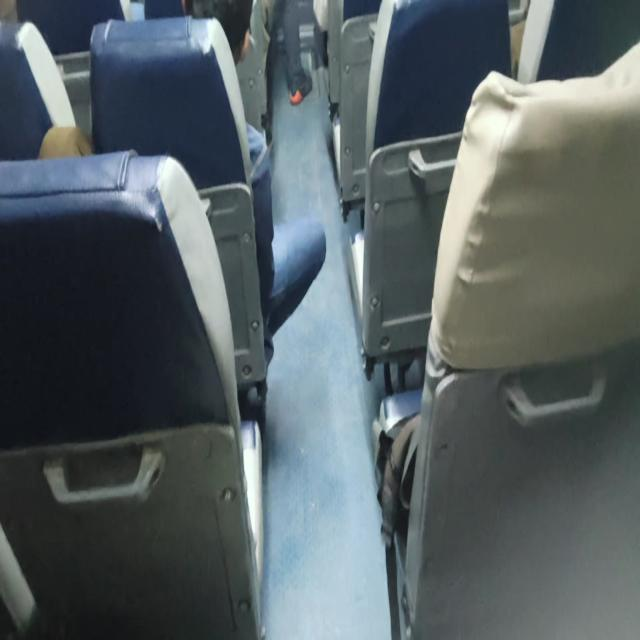person: (176, 0, 252, 83)
